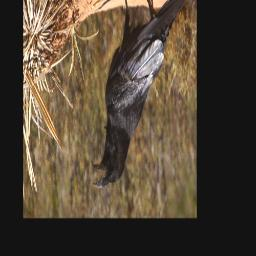Crow: (93, 0, 188, 188)
